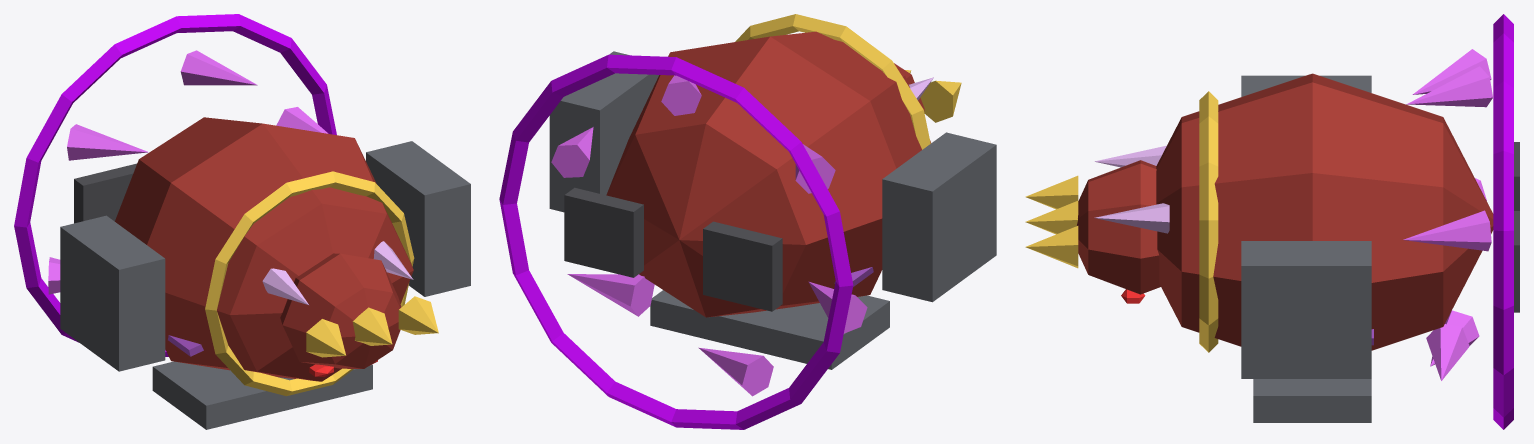
Rendered from TD_Enemy_Boss_Chaos.fbx.
3 views of the same model, side by side, from view 1: azimuth 30°, elevation 25°; view 2: azimuth 150°, elevation 25°; view 3: azimuth 270°, elevation 25° (orthographic). The views are drawn at different scales.
Parts seen in each view (by area): view 1: TD_Enemy_Boss_Chaos_Body, TD_Enemy_Boss_Chaos_HugeArmorPlate_Left, TD_Enemy_Boss_Chaos_HugeArmorPlate_Right, TD_Enemy_Boss_Chaos_ChaosAura_Ring, TD_Enemy_Boss_Chaos_Head, TD_Enemy_Boss_Chaos_HugeArmorPlate_Front, TD_Enemy_Boss_Chaos_BossGoldRing, TD_Enemy_Boss_Chaos_Foot_Left, TD_Enemy_Boss_Chaos_ChaosFlameWisp_03, TD_Enemy_Boss_Chaos_ChaosFlameWisp_02, TD_Enemy_Boss_Chaos_BossCrownPoint_3, TD_Enemy_Boss_Chaos_BossCrownPoint_1 (+5 smaller); view 2: TD_Enemy_Boss_Chaos_Body, TD_Enemy_Boss_Chaos_ChaosAura_Ring, TD_Enemy_Boss_Chaos_HugeArmorPlate_Left, TD_Enemy_Boss_Chaos_HugeArmorPlate_Front, TD_Enemy_Boss_Chaos_HugeArmorPlate_Right, TD_Enemy_Boss_Chaos_Foot_Left, TD_Enemy_Boss_Chaos_Foot_Right, TD_Enemy_Boss_Chaos_BossGoldRing, TD_Enemy_Boss_Chaos_ChaosFlameWisp_06, TD_Enemy_Boss_Chaos_ChaosFlameWisp_05, TD_Enemy_Boss_Chaos_ChaosFlameWisp_01, TD_Enemy_Boss_Chaos_BossCrownPoint_1 (+3 smaller); view 3: TD_Enemy_Boss_Chaos_Body, TD_Enemy_Boss_Chaos_HugeArmorPlate_Right, TD_Enemy_Boss_Chaos_ChaosAura_Ring, TD_Enemy_Boss_Chaos_Head, TD_Enemy_Boss_Chaos_HugeArmorPlate_Front, TD_Enemy_Boss_Chaos_BossGoldRing, TD_Enemy_Boss_Chaos_ChaosFlameWisp_02, TD_Enemy_Boss_Chaos_ChaosFlameWisp_01, TD_Enemy_Boss_Chaos_ChaosFlameWisp_06, TD_Enemy_Boss_Chaos_HugeArmorPlate_Left, TD_Enemy_Boss_Chaos_ChaosEnergySpike_02, TD_Enemy_Boss_Chaos_BossCrownPoint_3 (+6 smaller).
Boxes of the visible parts, x1=… form: TD_Enemy_Boss_Chaos_Body: x1=115, y1=117, x2=413, y2=381; TD_Enemy_Boss_Chaos_HugeArmorPlate_Left: x1=60, y1=215, x2=165, y2=371; TD_Enemy_Boss_Chaos_HugeArmorPlate_Right: x1=366, y1=141, x2=470, y2=296; TD_Enemy_Boss_Chaos_ChaosAura_Ring: x1=14, y1=14, x2=336, y2=356; TD_Enemy_Boss_Chaos_Head: x1=280, y1=253, x2=401, y2=368; TD_Enemy_Boss_Chaos_HugeArmorPlate_Front: x1=152, y1=361, x2=372, y2=429; TD_Enemy_Boss_Chaos_BossGoldRing: x1=205, y1=171, x2=414, y2=396; TD_Enemy_Boss_Chaos_Foot_Left: x1=74, y1=163, x2=136, y2=223; TD_Enemy_Boss_Chaos_ChaosFlameWisp_03: x1=67, y1=124, x2=148, y2=160; TD_Enemy_Boss_Chaos_ChaosFlameWisp_02: x1=180, y1=50, x2=257, y2=85; TD_Enemy_Boss_Chaos_BossCrownPoint_3: x1=398, y1=296, x2=438, y2=334; TD_Enemy_Boss_Chaos_BossCrownPoint_1: x1=306, y1=319, x2=345, y2=357; TD_Enemy_Boss_Chaos_Body: x1=606, y1=31, x2=930, y2=317; TD_Enemy_Boss_Chaos_ChaosAura_Ring: x1=499, y1=54, x2=853, y2=429; TD_Enemy_Boss_Chaos_HugeArmorPlate_Left: x1=882, y1=132, x2=996, y2=302; TD_Enemy_Boss_Chaos_HugeArmorPlate_Front: x1=650, y1=290, x2=889, y2=369; TD_Enemy_Boss_Chaos_HugeArmorPlate_Right: x1=549, y1=51, x2=658, y2=212; TD_Enemy_Boss_Chaos_Foot_Left: x1=703, y1=221, x2=782, y2=311; TD_Enemy_Boss_Chaos_Foot_Right: x1=564, y1=187, x2=643, y2=277; TD_Enemy_Boss_Chaos_BossGoldRing: x1=735, y1=14, x2=930, y2=149; TD_Enemy_Boss_Chaos_ChaosFlameWisp_06: x1=567, y1=274, x2=654, y2=316; TD_Enemy_Boss_Chaos_ChaosFlameWisp_05: x1=698, y1=347, x2=773, y2=396; TD_Enemy_Boss_Chaos_ChaosFlameWisp_01: x1=551, y1=127, x2=593, y2=177; TD_Enemy_Boss_Chaos_BossCrownPoint_1: x1=920, y1=80, x2=961, y2=122; TD_Enemy_Boss_Chaos_Body: x1=1156, y1=73, x2=1493, y2=350; TD_Enemy_Boss_Chaos_HugeArmorPlate_Right: x1=1241, y1=241, x2=1371, y2=378; TD_Enemy_Boss_Chaos_ChaosAura_Ring: x1=1493, y1=14, x2=1513, y2=429; TD_Enemy_Boss_Chaos_Head: x1=1077, y1=160, x2=1160, y2=294; TD_Enemy_Boss_Chaos_HugeArmorPlate_Front: x1=1253, y1=379, x2=1371, y2=422; TD_Enemy_Boss_Chaos_BossGoldRing: x1=1199, y1=91, x2=1218, y2=352; TD_Enemy_Boss_Chaos_ChaosFlameWisp_02: x1=1406, y1=66, x2=1492, y2=107; TD_Enemy_Boss_Chaos_ChaosFlameWisp_01: x1=1403, y1=210, x2=1491, y2=251; TD_Enemy_Boss_Chaos_ChaosFlameWisp_06: x1=1426, y1=324, x2=1469, y2=380; TD_Enemy_Boss_Chaos_HugeArmorPlate_Left: x1=1241, y1=75, x2=1371, y2=96; TD_Enemy_Boss_Chaos_ChaosEnergySpike_02: x1=1094, y1=203, x2=1169, y2=233; TD_Enemy_Boss_Chaos_BossCrownPoint_3: x1=1025, y1=226, x2=1078, y2=268.
Size of the model in its own units: 1.52 by 1.41 by 1.67.
